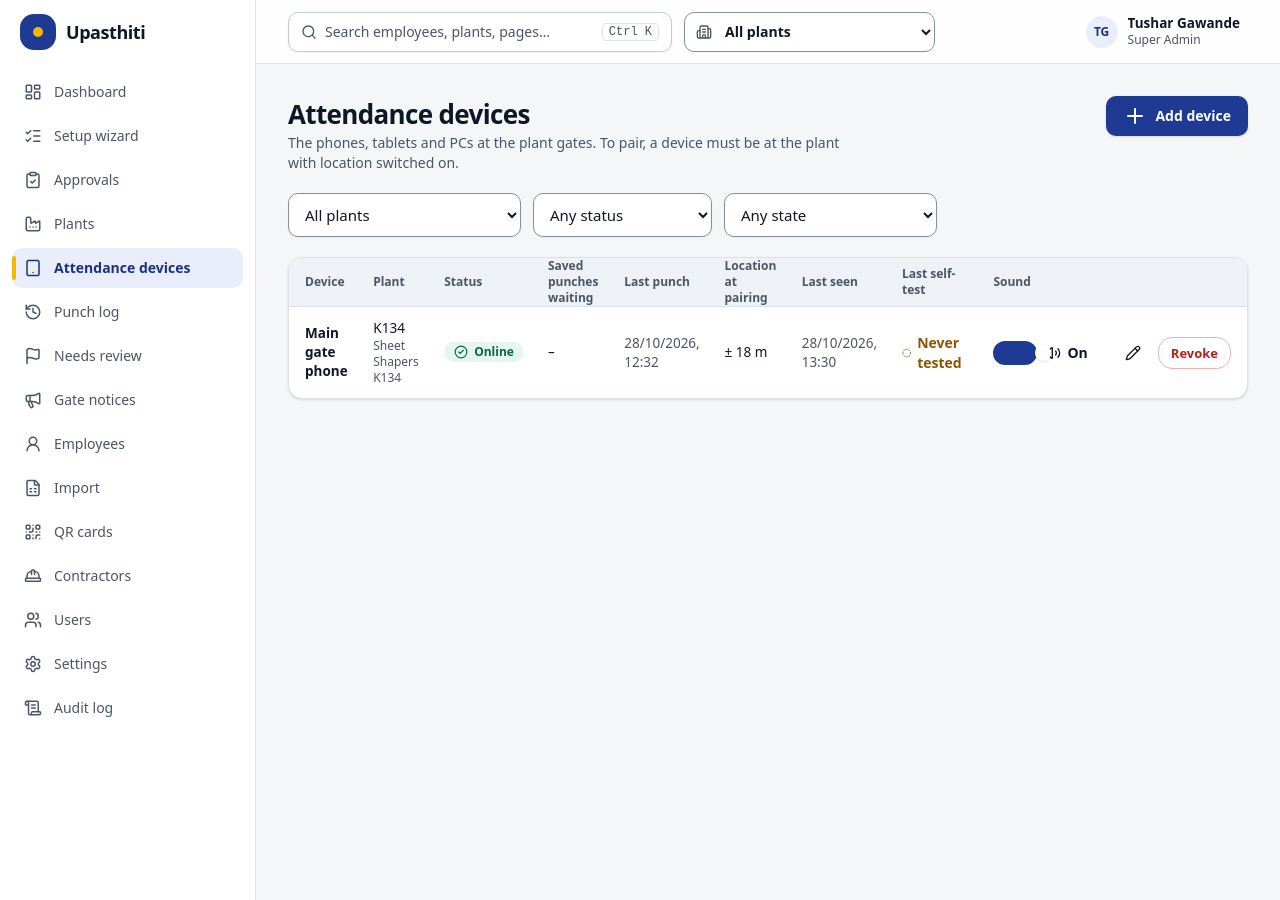
it: renaming and switching off a device › shows the server's answer when renaming fails, and cancels
Click the button named "Rename Main gate phone" at (1133, 353), box [1112,337,1154,369]
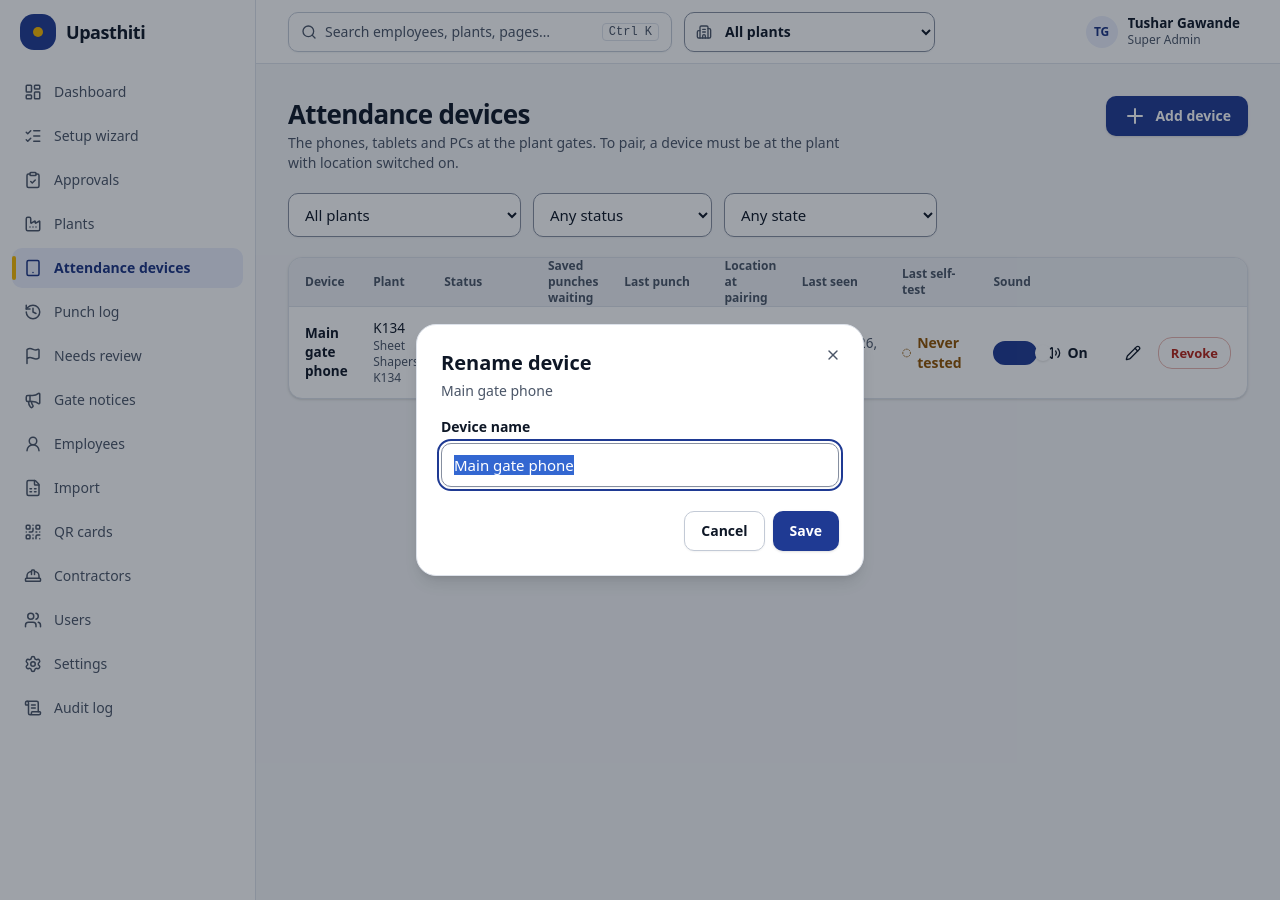
Click the button "Save" at (806, 531), box [773,511,839,551]
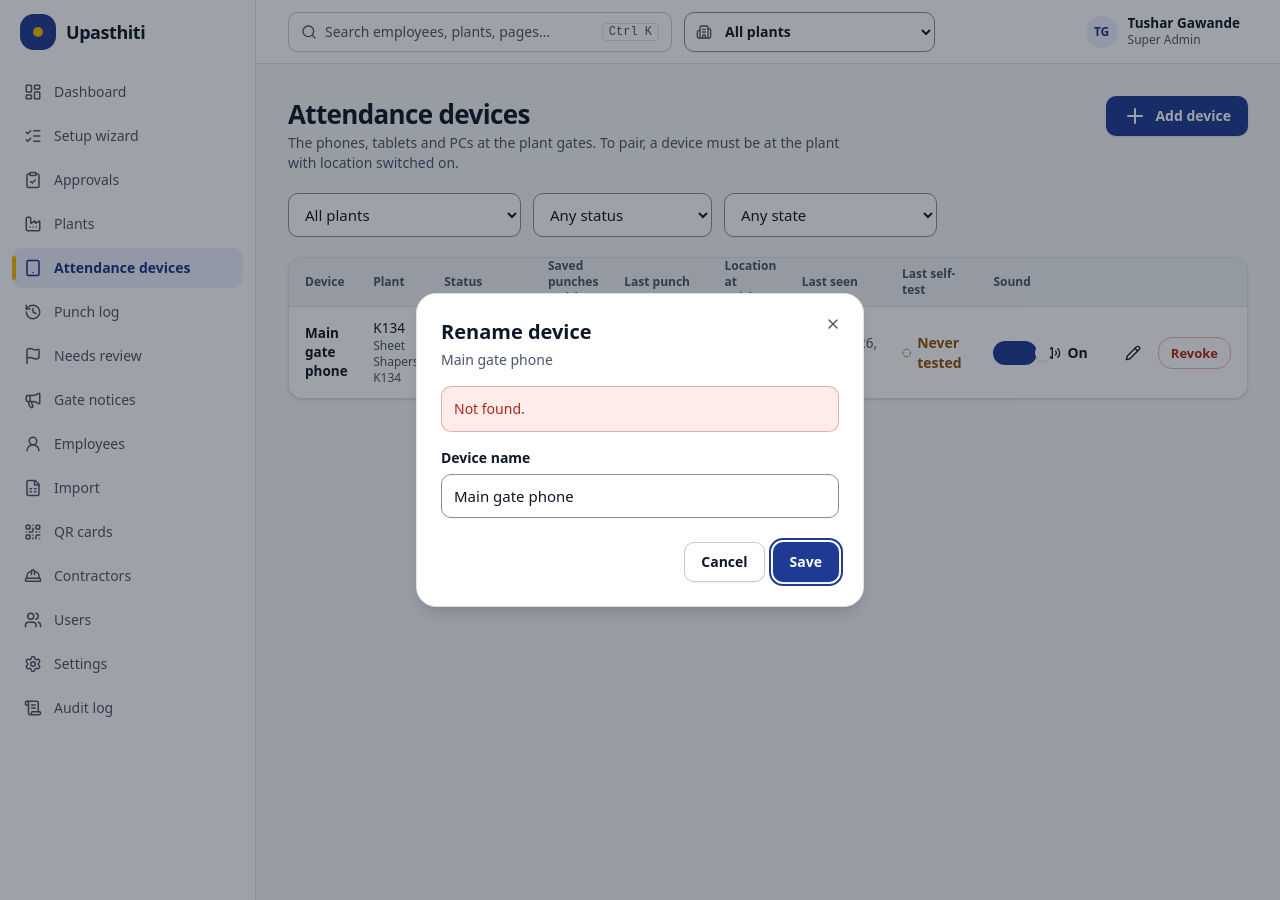
Check: the text "Not found." is shown, box [454,399,525,419]
Click the button "Cancel" at (724, 562), box [684,542,765,582]
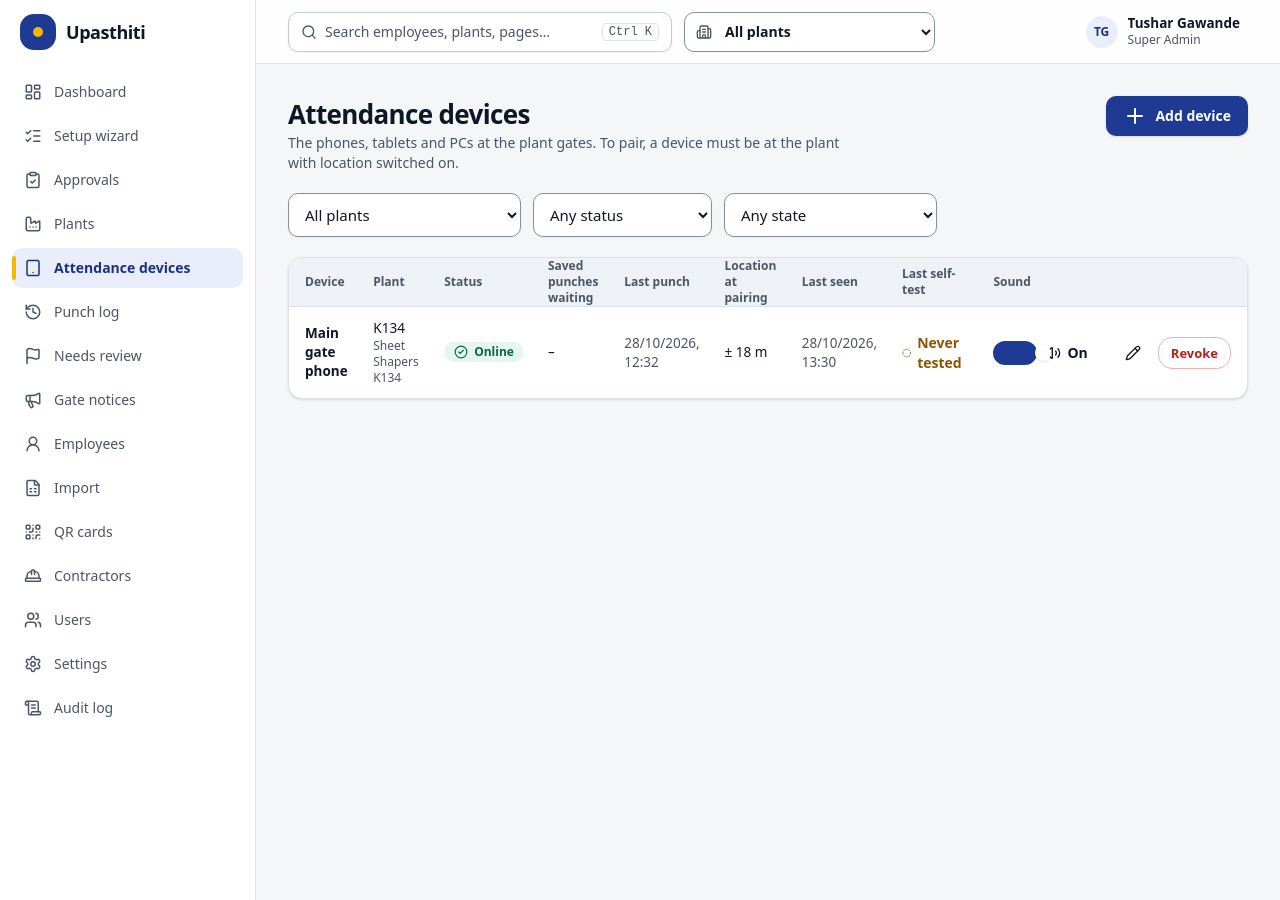
Check: the dialog is gone
